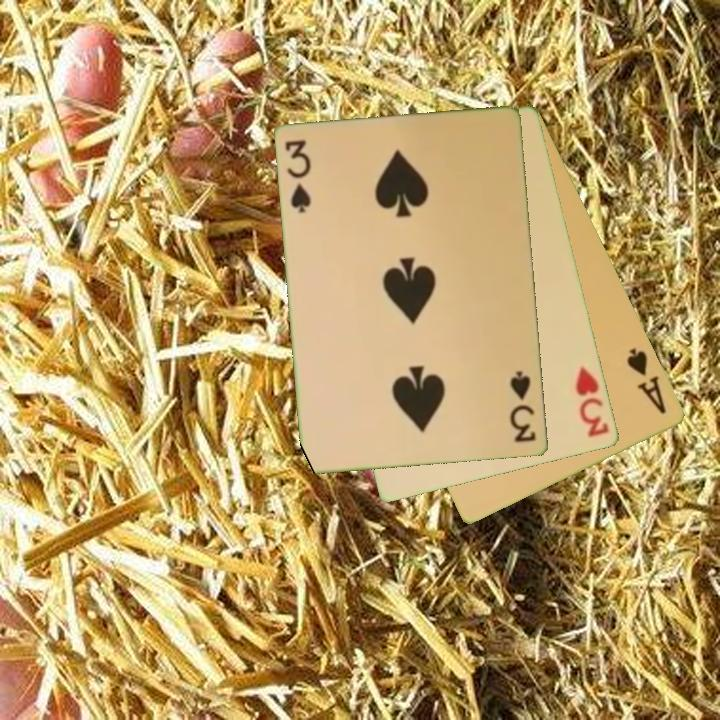3h: (572, 363, 613, 441)
3s: (507, 367, 540, 446), (282, 137, 314, 216)
As: (623, 344, 670, 418)
